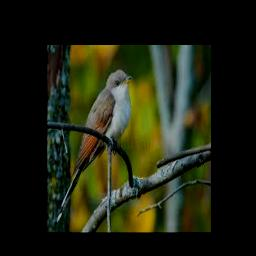Cuckoo: (56, 69, 132, 222)
